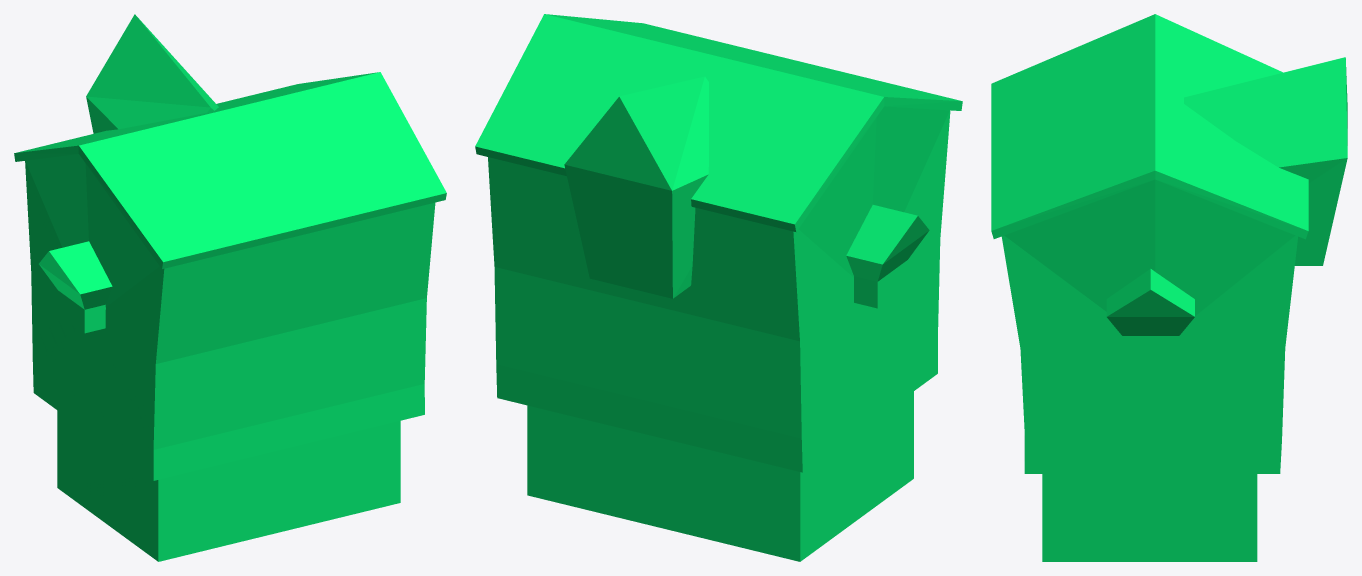
Rendered from Building9_Collision.FBX.
The picture shows the model from 3 angles, left to right: view 1: azimuth 30°, elevation 25°; view 2: azimuth 150°, elevation 25°; view 3: azimuth 270°, elevation 25°; orthographic projection. The views are drawn at different scales.
Visible parts, largest first — view 1: Building9_Collision; view 2: Building9_Collision; view 3: Building9_Collision.
Part boxes in pixels (x1,y1,x2,y2): Building9_Collision: [14, 14, 446, 561]; Building9_Collision: [475, 14, 962, 561]; Building9_Collision: [991, 14, 1347, 561].
Bounding box in the file's own units: 15.15 × 16.66 × 12.21.
